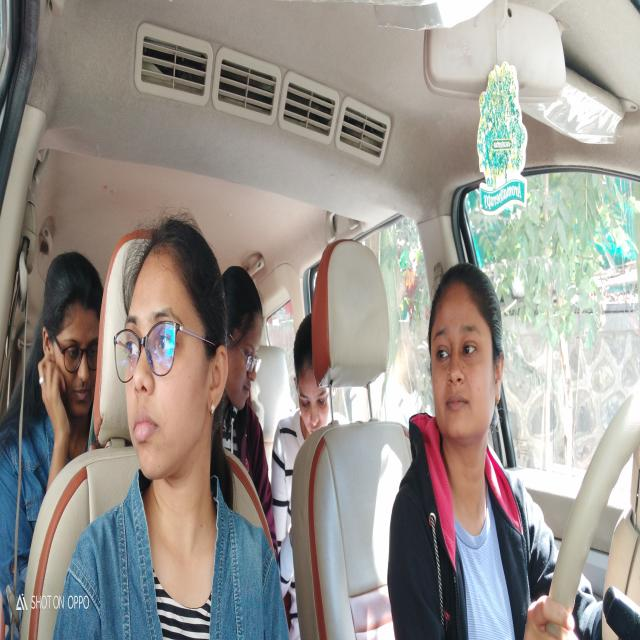LeftRight: (125, 233, 228, 464), (430, 272, 505, 449)
person: (46, 259, 98, 406), (230, 271, 264, 415), (296, 327, 330, 428)
